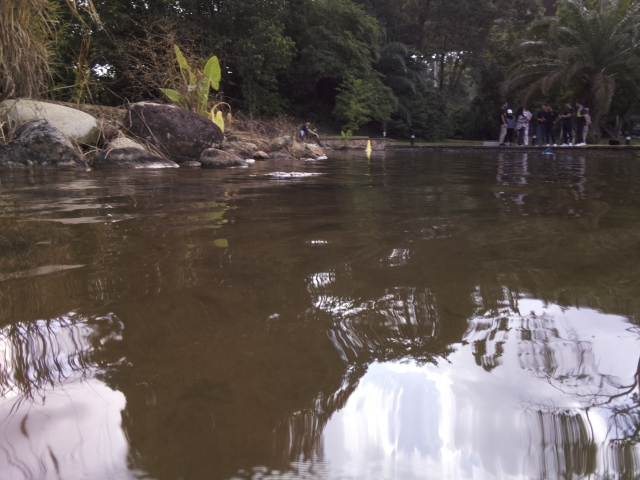checkpoint: (363, 138, 374, 153)
